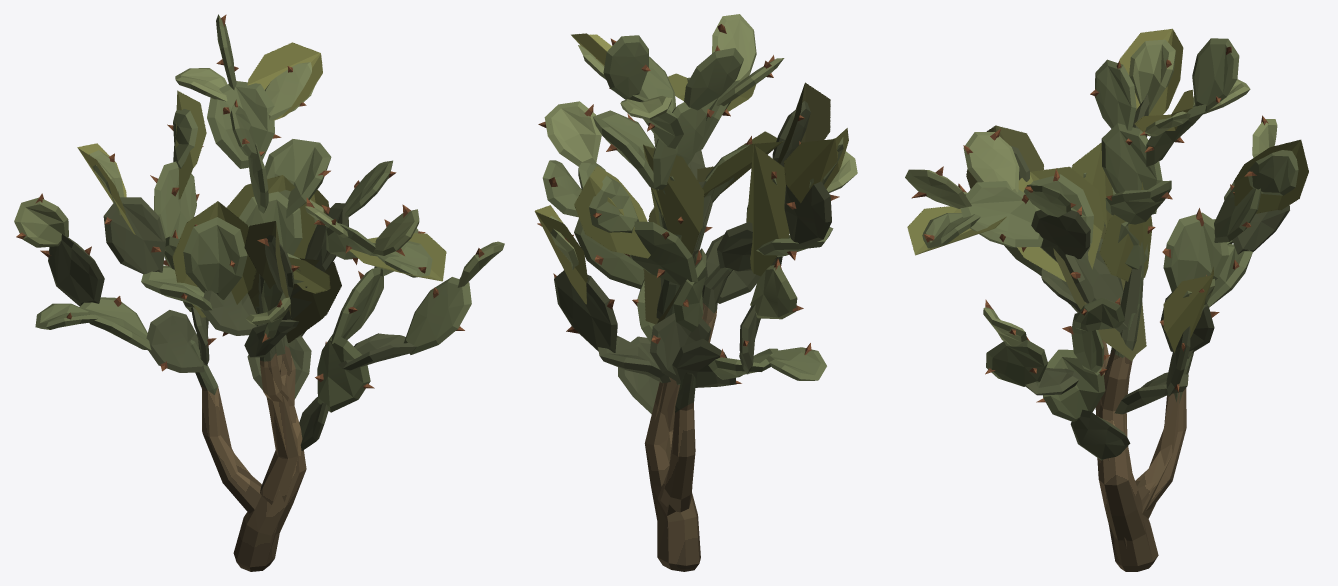
The model's file is sc-cactus.glb.
The picture shows the model from 3 angles, left to right: view 1: azimuth 30°, elevation 25°; view 2: azimuth 150°, elevation 25°; view 3: azimuth 270°, elevation 25°; orthographic projection. The views are drawn at different scales.
Parts seen in each view (by area): view 1: SM_Env_Cactus_03_LOD0, SM_Env_Cactus_03_LOD2_L3; view 2: SM_Env_Cactus_03_LOD0, SM_Env_Cactus_03_LOD2_L3; view 3: SM_Env_Cactus_03_LOD0, SM_Env_Cactus_03_LOD2_L3.
Part boxes in pixels (left/top/right/bottom): SM_Env_Cactus_03_LOD0: left=14, top=14, right=504, bottom=571; SM_Env_Cactus_03_LOD2_L3: left=77, top=42, right=446, bottom=567; SM_Env_Cactus_03_LOD0: left=537, top=14, right=857, bottom=571; SM_Env_Cactus_03_LOD2_L3: left=534, top=33, right=848, bottom=558; SM_Env_Cactus_03_LOD0: left=905, top=38, right=1298, bottom=571; SM_Env_Cactus_03_LOD2_L3: left=907, top=28, right=1308, bottom=561.
Size of what is drawn, in the model's own units: 5.17 by 7 by 5.19.
2 materials, 2 textured.
